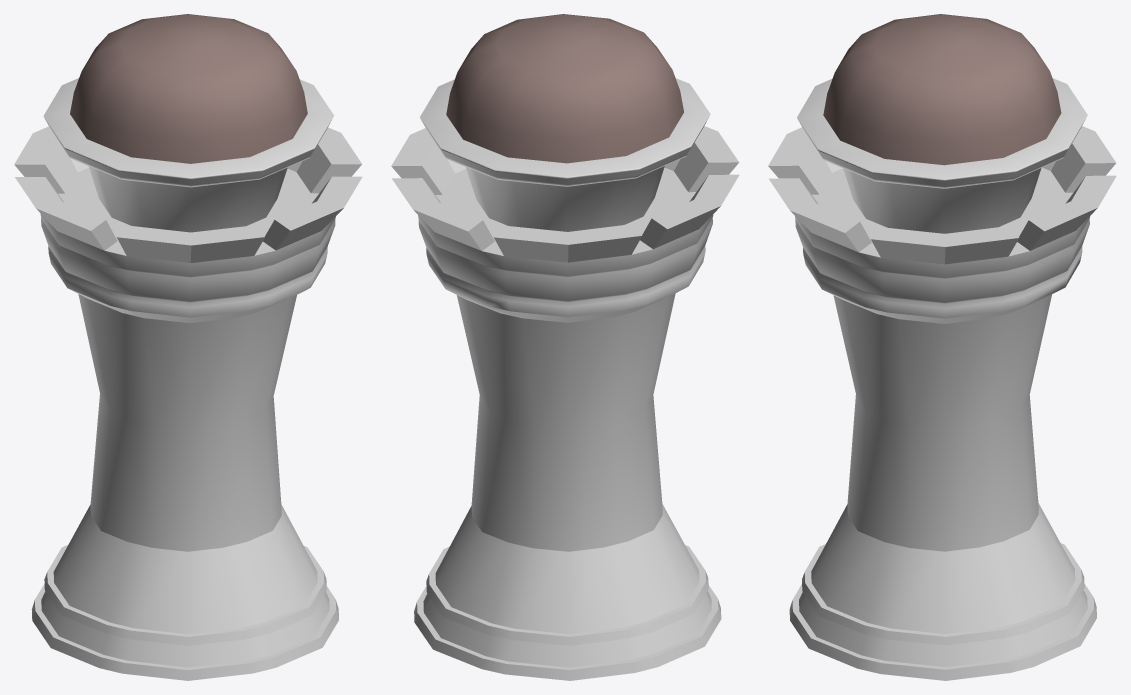
The model's file is SM_Tower (1).fbx.
3 renders of one model, left to right at view 1: azimuth 30°, elevation 25°; view 2: azimuth 150°, elevation 25°; view 3: azimuth 270°, elevation 25°, orthographic.
Visible parts, largest first — view 1: SM_Tower_1, SM_TowerTop, SM_TowerMiddle; view 2: SM_Tower_1, SM_TowerTop, SM_TowerMiddle; view 3: SM_Tower_1, SM_TowerTop, SM_TowerMiddle.
Part boxes in pixels (box(x1,y1,x2,y2)): SM_Tower_1: box(14, 126, 362, 680); SM_TowerTop: box(70, 14, 307, 163); SM_TowerMiddle: box(43, 78, 334, 232); SM_Tower_1: box(391, 126, 739, 680); SM_TowerTop: box(446, 14, 683, 163); SM_TowerMiddle: box(420, 78, 710, 231); SM_Tower_1: box(768, 126, 1116, 680); SM_TowerTop: box(823, 14, 1061, 165); SM_TowerMiddle: box(797, 78, 1087, 233).
Bounding box in the file's own units: 938 × 1696 × 919.
